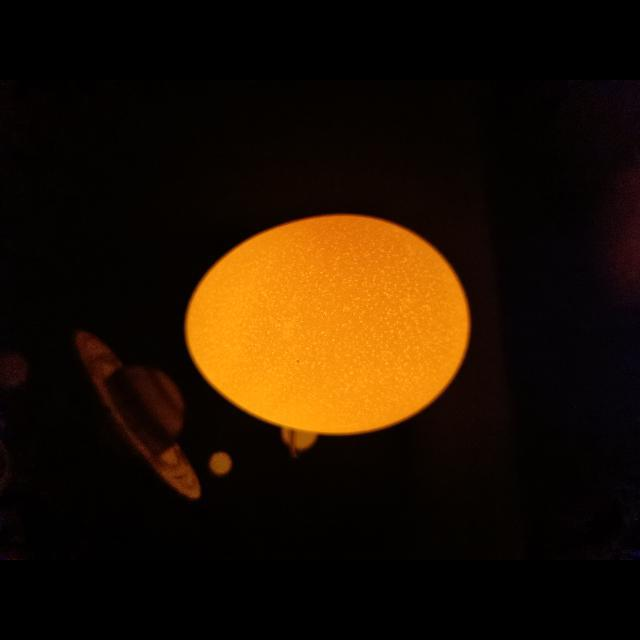AA - Premium: (185, 215, 470, 435)
